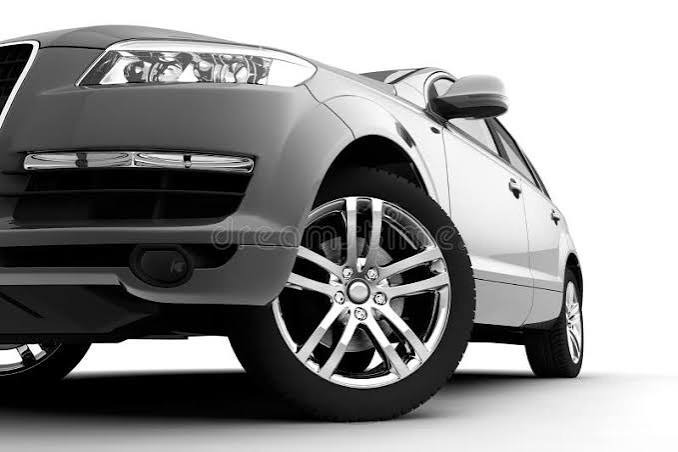car: (1, 24, 591, 420)
